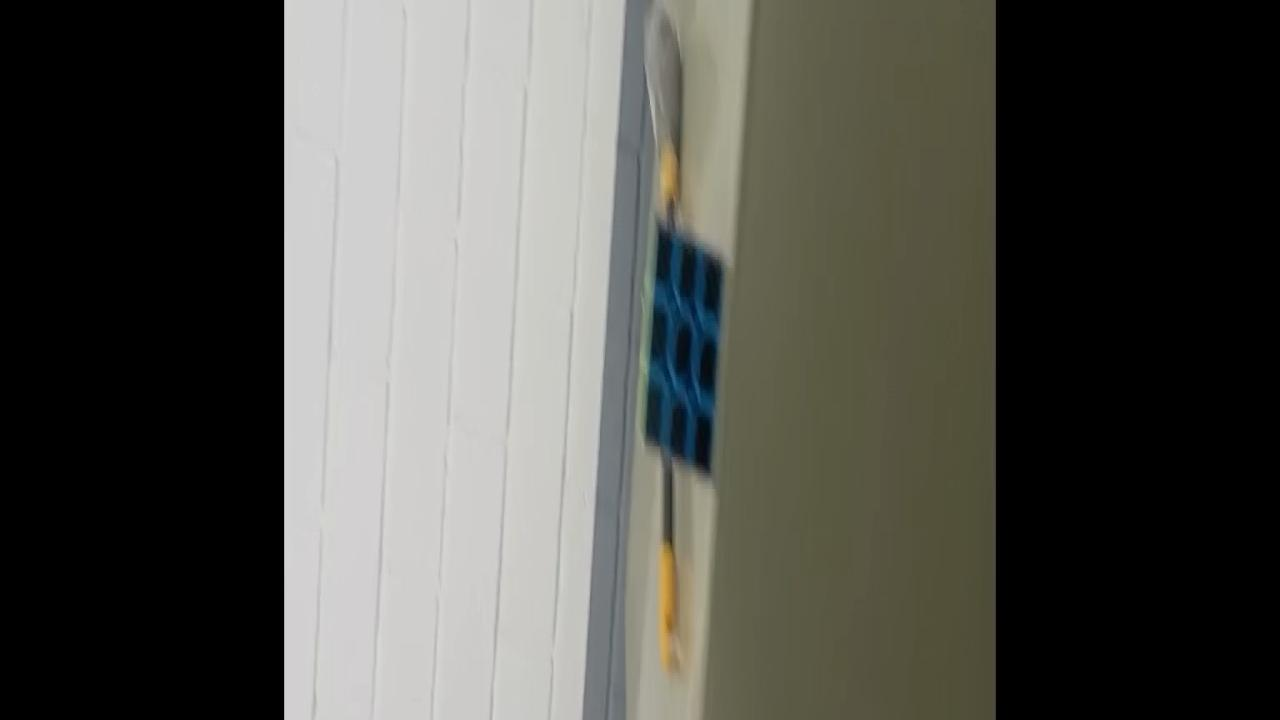Cube: (636, 206, 726, 486)
